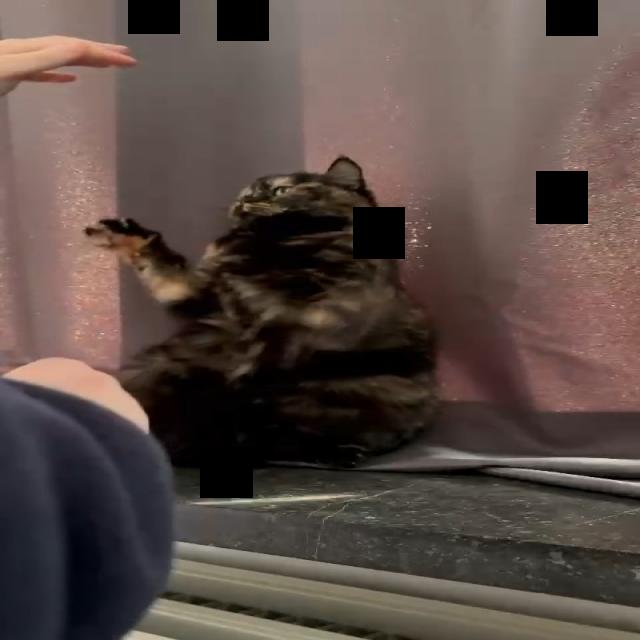authorized: (81, 154, 443, 469)
